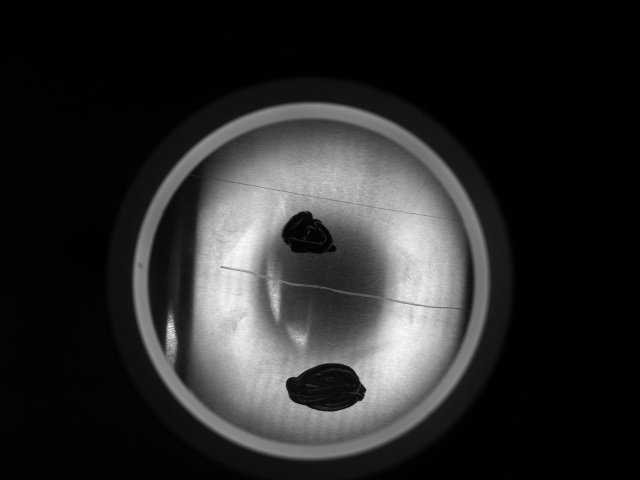ca_shang: (194, 173, 458, 223), (215, 265, 469, 310)
zang_wu: (285, 360, 370, 412), (278, 209, 341, 256)
